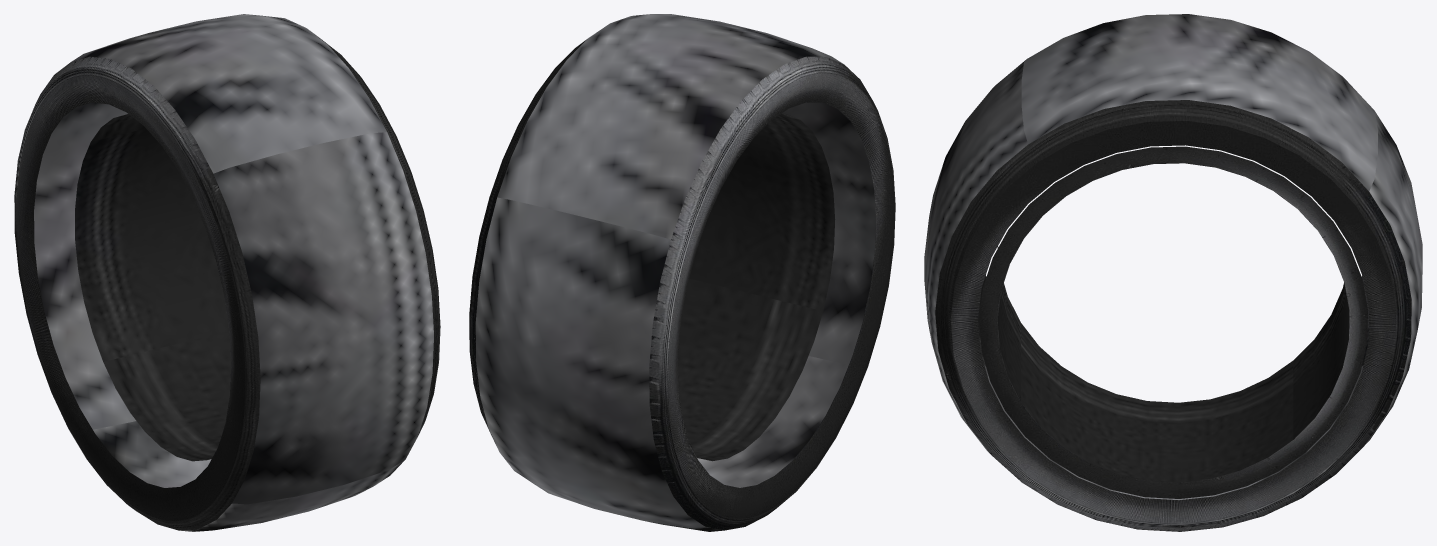
The model's file is Llanta2_CarroText.fbx.
The picture shows the model from 3 angles, left to right: view 1: azimuth 30°, elevation 25°; view 2: azimuth 150°, elevation 25°; view 3: azimuth 270°, elevation 25°; orthographic projection.
Parts seen in each view (by area): view 1: Llanta2_Carro; view 2: Llanta2_Carro; view 3: Llanta2_Carro.
Boxes of the visible parts, <box> form: Llanta2_Carro: <box>14,14,440,531</box>; Llanta2_Carro: <box>469,14,895,531</box>; Llanta2_Carro: <box>924,14,1422,531</box>.
Size of the model in its own units: 9.67 by 21.02 by 21.01.
1 material, 1 textured.
